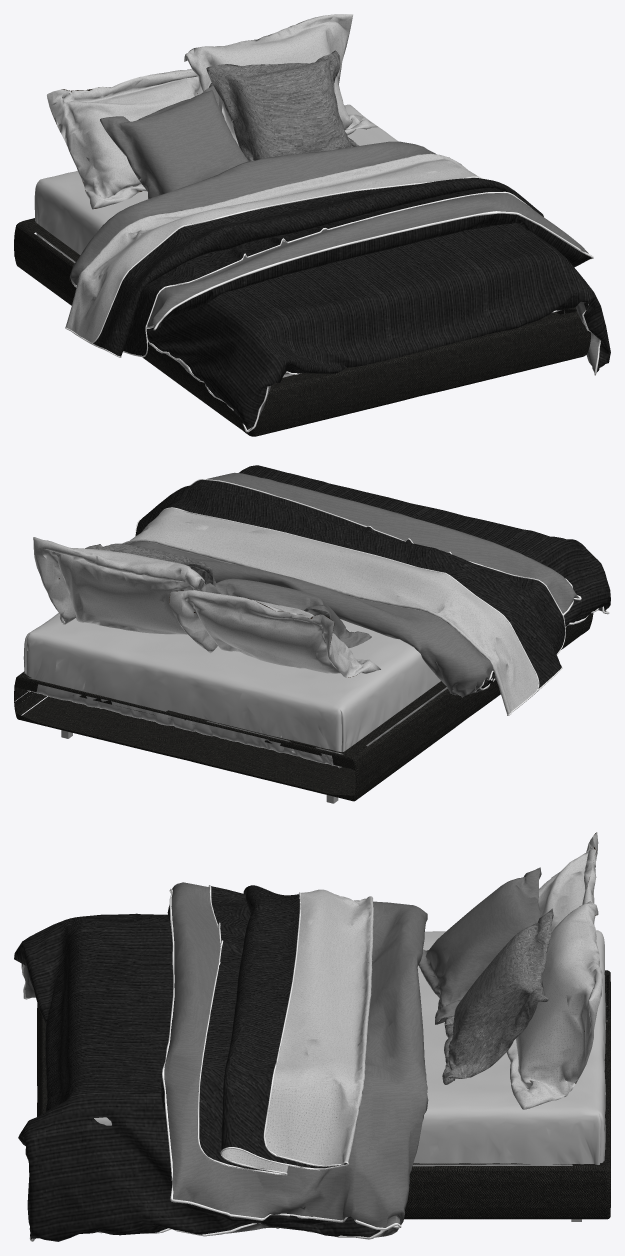
Rendered from 1786021072524_8948eg5kjcg.glb.
The picture shows the model from 3 angles, top to bottom: view 1: azimuth 30°, elevation 25°; view 2: azimuth 150°, elevation 25°; view 3: azimuth 270°, elevation 25°; orthographic projection. The views are drawn at different scales.
Visible parts, largest first — view 1: skp3566, skp5345, Base, skp7B28; view 2: skp3566, skp7B28, skp5345, Base; view 3: skp3566, skp5345, skp7B28, Base.
Part boxes in pixels (x1,y1,x2,y2): skp3566: [65, 141, 610, 432]; skp5345: [47, 14, 377, 209]; Base: [14, 218, 590, 436]; skp7B28: [34, 104, 398, 377]; skp3566: [122, 465, 610, 715]; skp7B28: [23, 613, 447, 768]; skp5345: [33, 537, 380, 677]; Base: [14, 613, 593, 801]; skp3566: [14, 882, 428, 1241]; skp5345: [418, 832, 602, 1109]; skp7B28: [94, 930, 605, 1166]; Base: [37, 970, 610, 1219].
Size of the model in its own units: 2.16 by 0.9166 by 2.04.
Materials: 11 (10 with a texture image).
